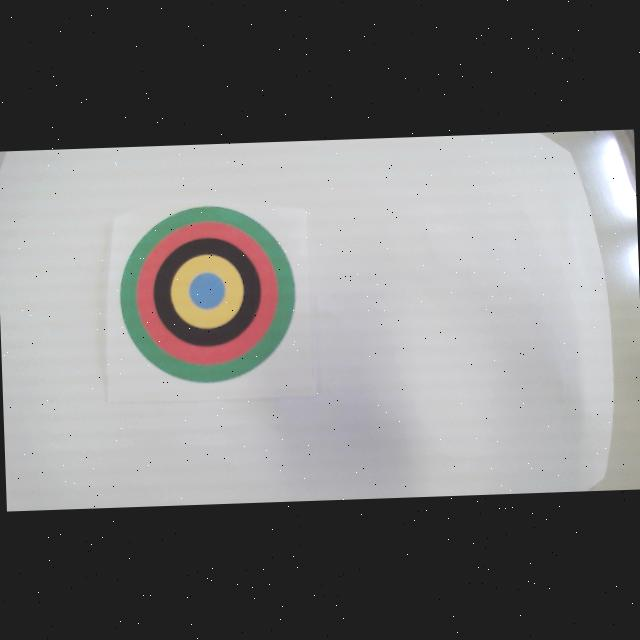COGNITIVE: (116, 203, 298, 385)
